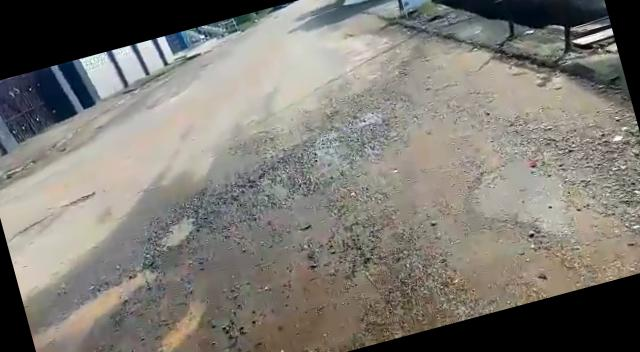pothole: (154, 210, 200, 249)
